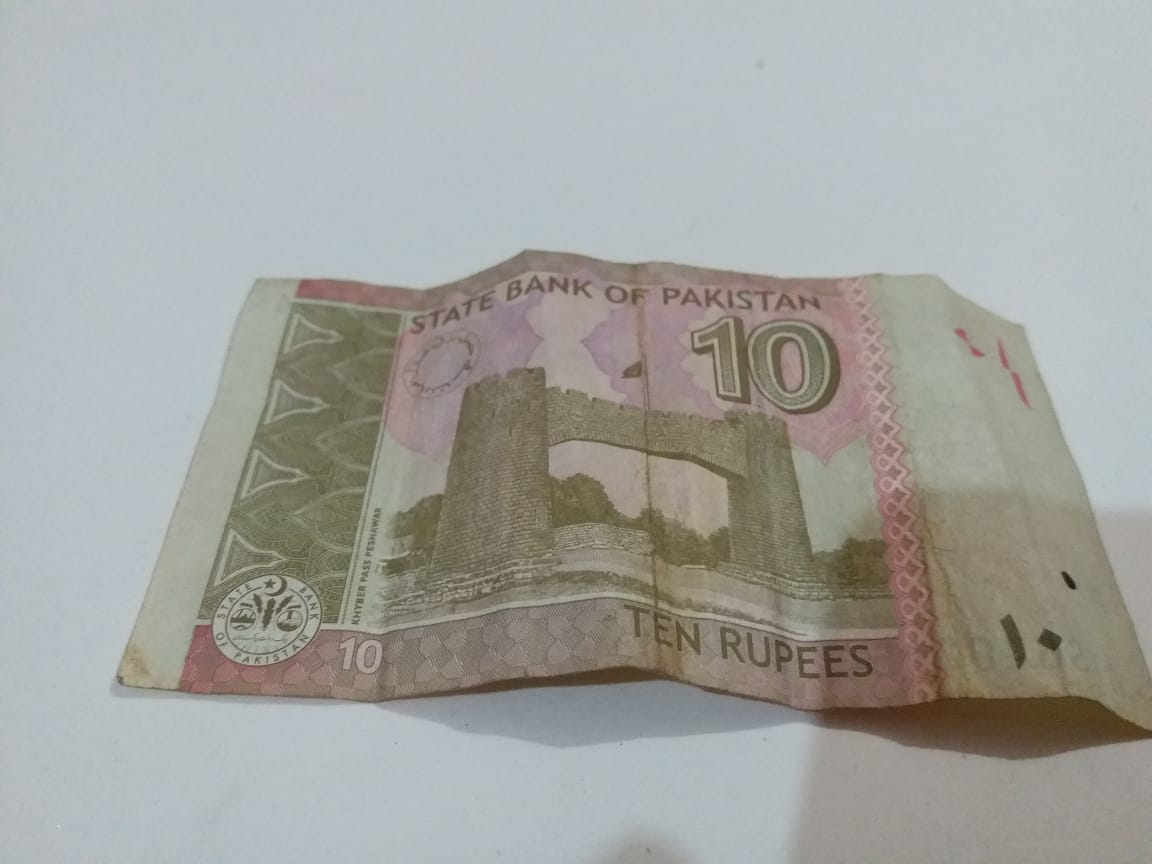10 rupee: (138, 252, 1150, 711)
